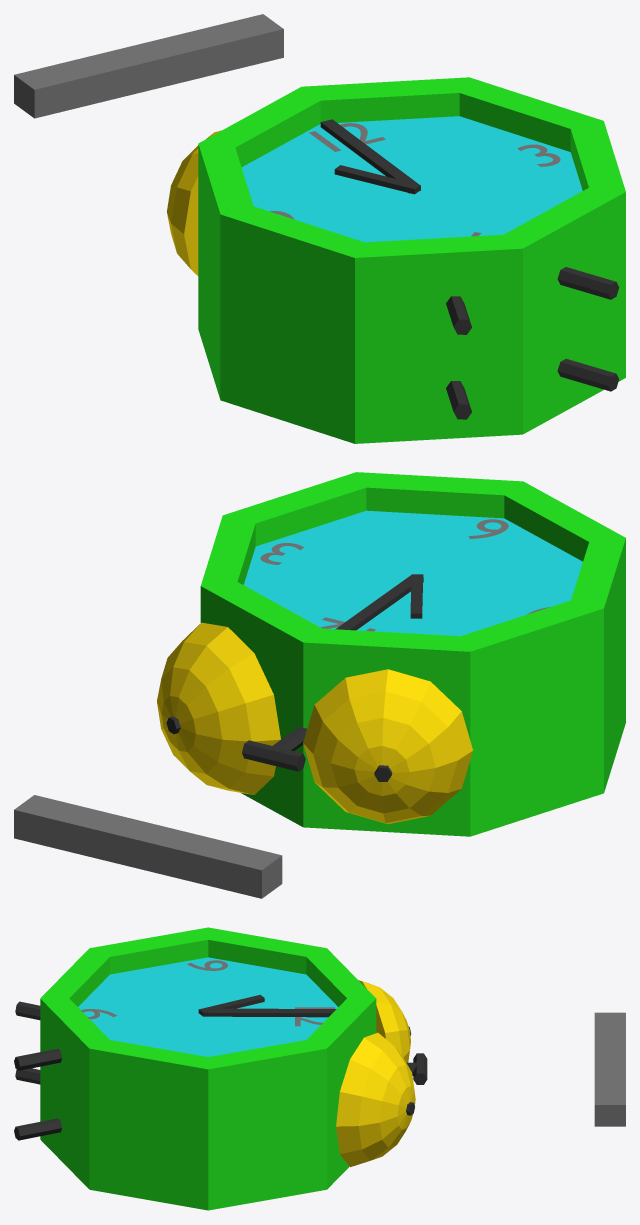
The model's file is minusClock.fbx.
The picture shows the model from 3 angles, top to bottom: view 1: azimuth 30°, elevation 25°; view 2: azimuth 150°, elevation 25°; view 3: azimuth 270°, elevation 25°; orthographic projection. The views are drawn at different scales.
Parts seen in each view (by area): view 1: Zegar, Minus; view 2: Zegar, Minus; view 3: Zegar, Minus.
Part boxes in pixels (x1,y1,x2,y2): Zegar: [167, 77, 625, 443]; Minus: [14, 14, 283, 118]; Zegar: [157, 472, 625, 836]; Minus: [14, 795, 282, 898]; Zegar: [14, 927, 427, 1210]; Minus: [594, 1012, 625, 1126].
Bounding box in the file's own units: 2 × 0.9269 × 3.64.
